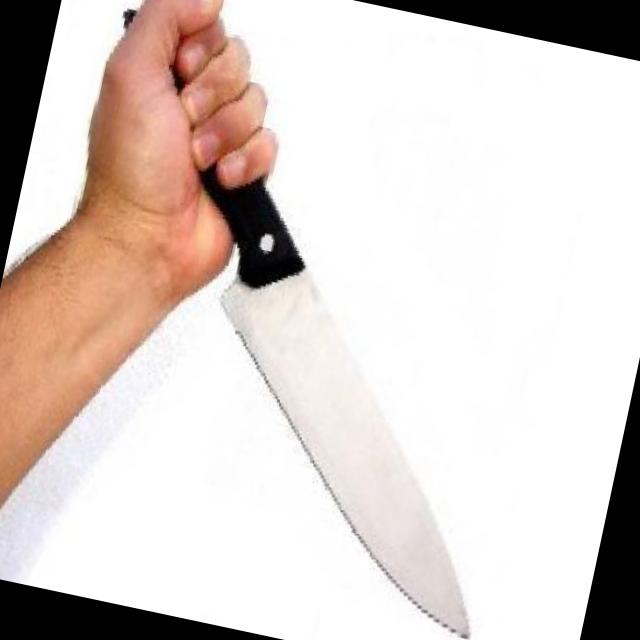knife: (69, 42, 590, 640)
